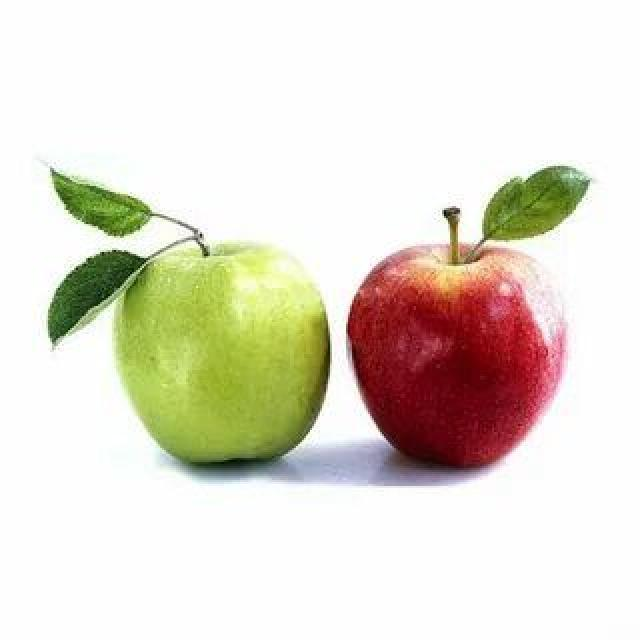Fresh Apple: (348, 245, 577, 482), (127, 248, 320, 458)
